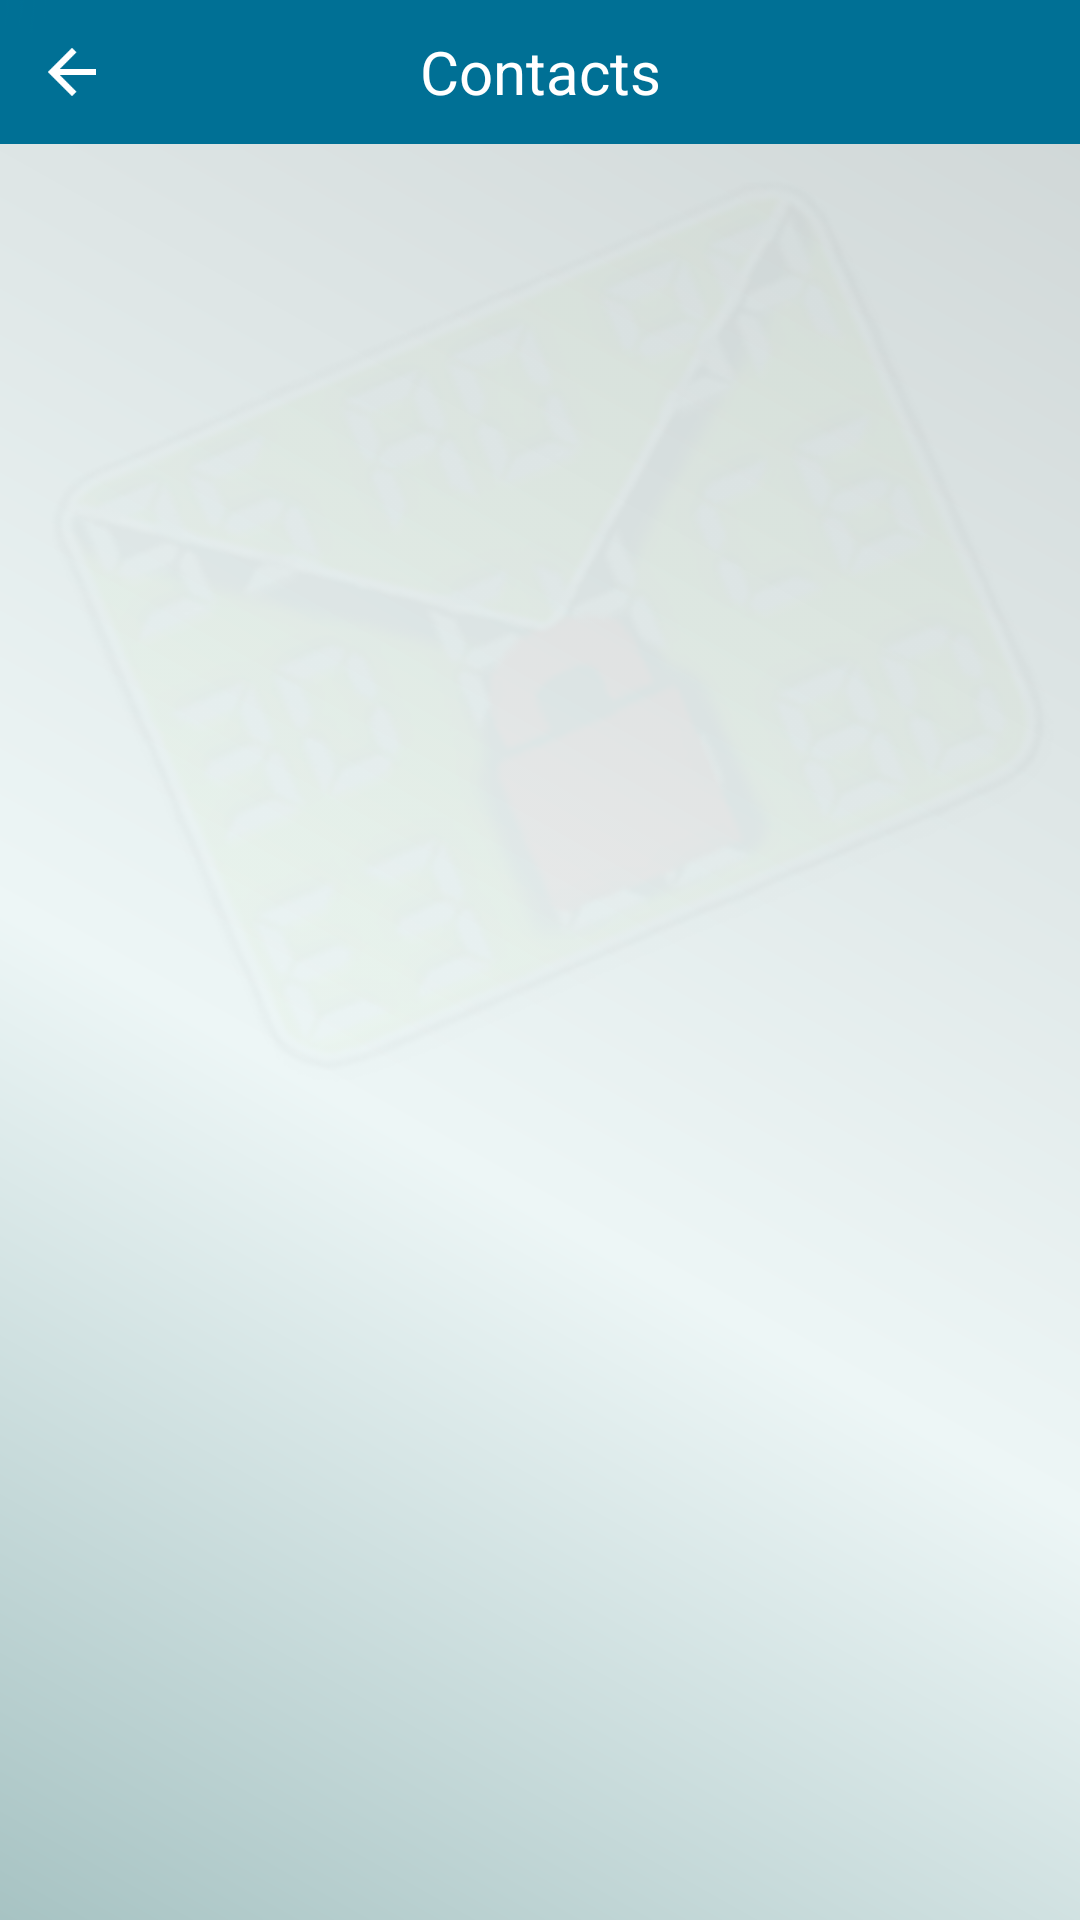

Named icons in this screenshot (1080*1920) and their bounding boxes, (x1=x1, y1=y1, x2=x2, y2=y2):
Back: (x1=48, y1=48, x2=96, y2=96)
